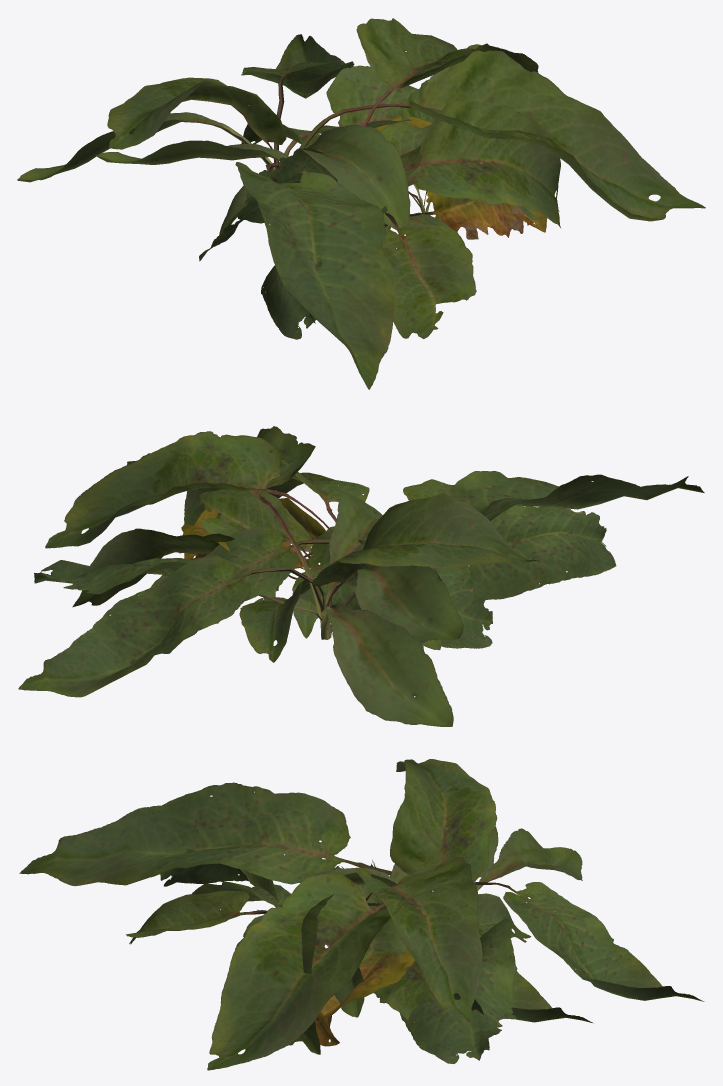
The model's file is weed-plant-02.glb.
The picture shows the model from 3 angles, top to bottom: view 1: azimuth 30°, elevation 25°; view 2: azimuth 150°, elevation 25°; view 3: azimuth 270°, elevation 25°; orthographic projection. The views are drawn at different scales.
Parts seen in each view (by area): view 1: weed_plant_02_a_LOD0, weed_plant_02_b_LOD0, weed_plant_02_c_LOD0, weed_plant_02_e_LOD0, weed_plant_02_d_LOD0; view 2: weed_plant_02_a_LOD0, weed_plant_02_b_LOD0, weed_plant_02_c_LOD0, weed_plant_02_d_LOD0, weed_plant_02_e_LOD0; view 3: weed_plant_02_a_LOD0, weed_plant_02_b_LOD0, weed_plant_02_c_LOD0, weed_plant_02_d_LOD0.
Boxes of the visible parts, x1,y1,x2,y2 form: weed_plant_02_a_LOD0: [17, 34, 705, 389]; weed_plant_02_b_LOD0: [96, 18, 538, 339]; weed_plant_02_c_LOD0: [219, 100, 560, 328]; weed_plant_02_e_LOD0: [237, 148, 545, 223]; weed_plant_02_d_LOD0: [199, 79, 474, 261]; weed_plant_02_a_LOD0: [18, 426, 704, 726]; weed_plant_02_b_LOD0: [45, 431, 616, 642]; weed_plant_02_c_LOD0: [179, 459, 560, 662]; weed_plant_02_d_LOD0: [72, 513, 492, 648]; weed_plant_02_e_LOD0: [262, 526, 442, 609]; weed_plant_02_a_LOD0: [19, 759, 704, 1070]; weed_plant_02_b_LOD0: [126, 826, 592, 1046]; weed_plant_02_c_LOD0: [192, 882, 531, 1054]; weed_plant_02_d_LOD0: [335, 866, 489, 1053].
Bounding box in the file's own units: 0.2194 × 0.0725 × 0.2909.
5 materials, 5 textured.
